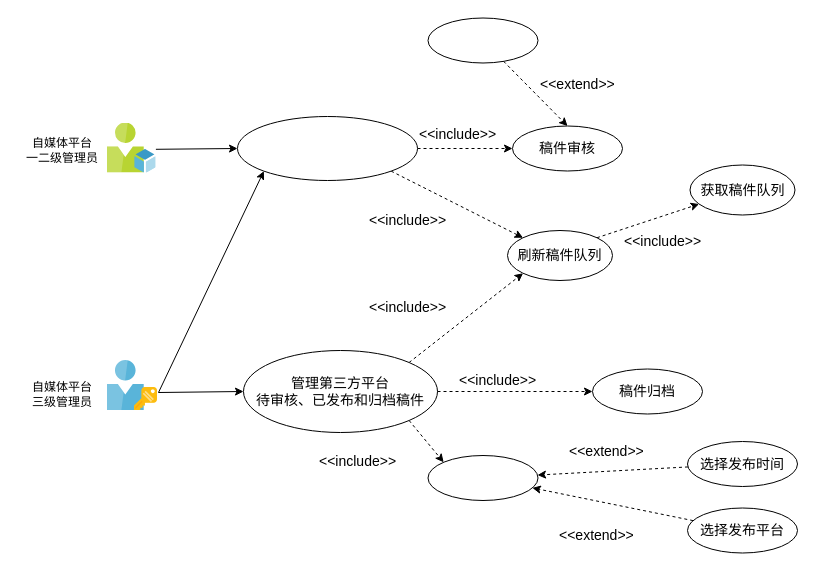
This 815x570 diagram has some shape labels left out. Here are the shapes that lost their labels. From the top down, the centre of each, then its label:
At (482,40): "审核意见".
At (327,148): "管理本平台 待审核和已审核稿件".
At (482,477): "稿件发布".
